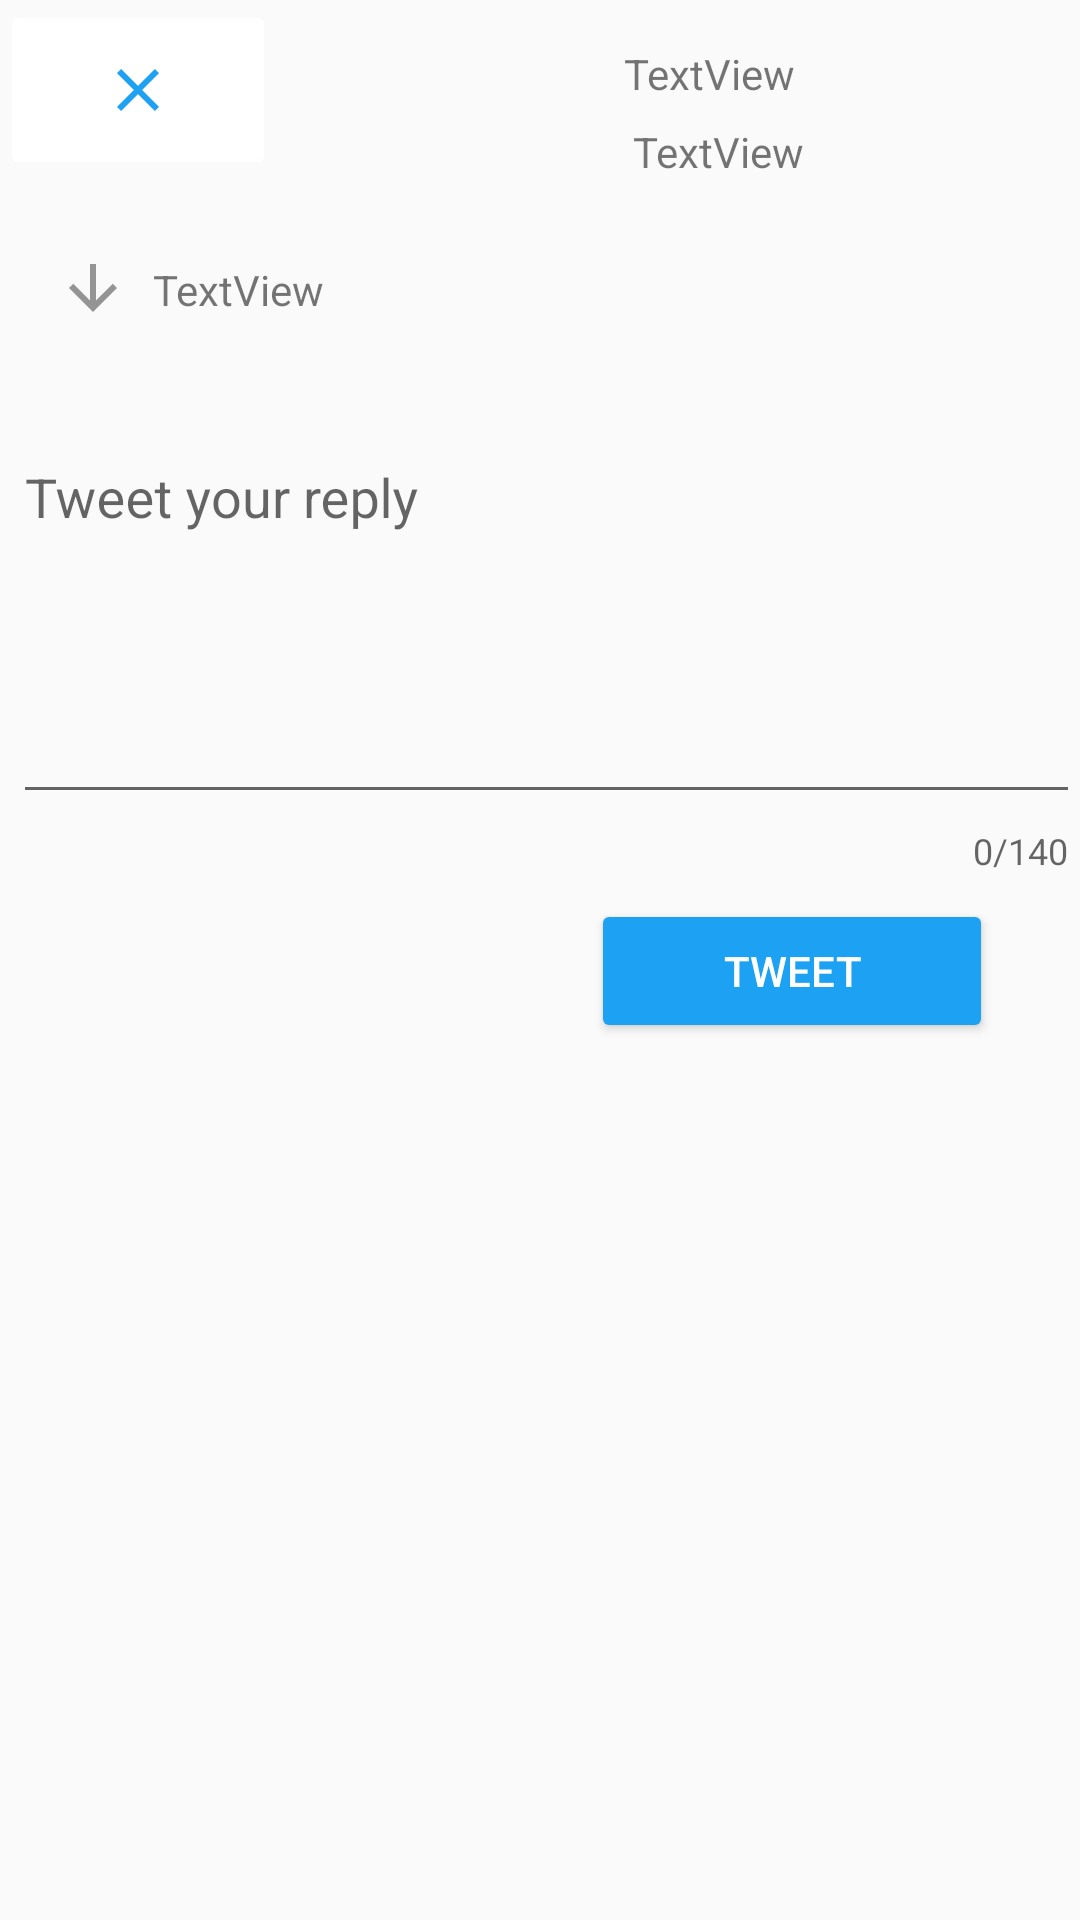

Screen size 1080 x 1920. Icon name, then its center in pixels as point (x, y):
arrow bown: point (93, 288)
cancel: point (138, 90)
